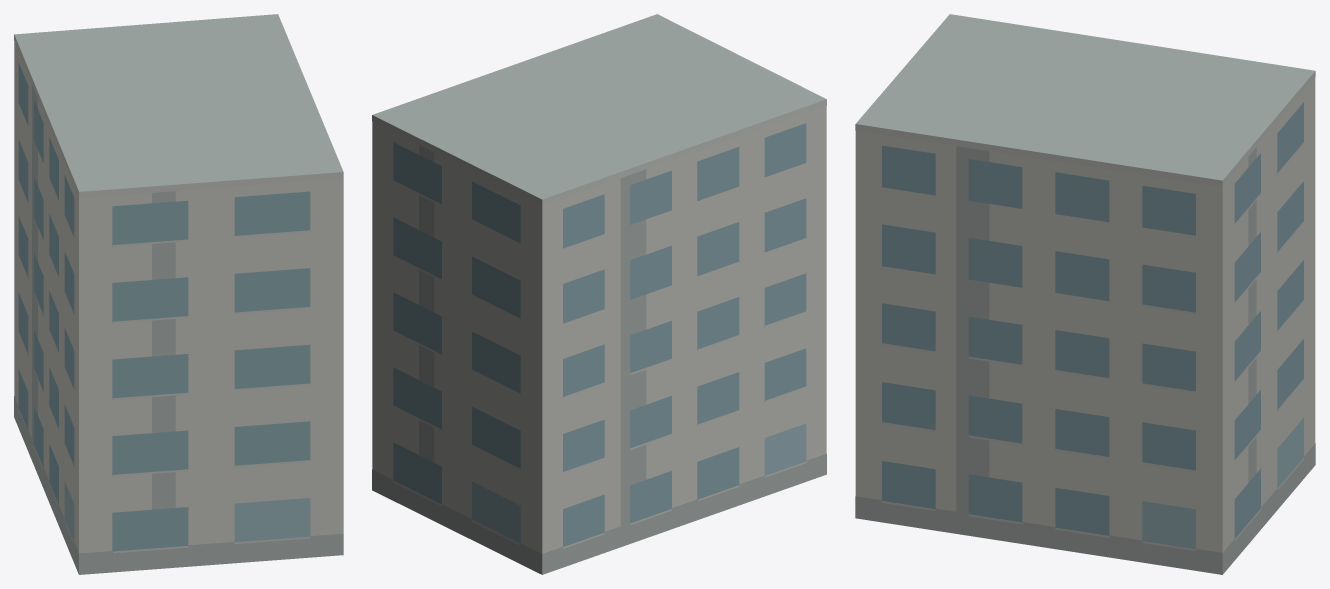
Rendered from survey-upis-32889274.glb.
The picture shows the model from 3 angles, left to right: view 1: azimuth 30°, elevation 25°; view 2: azimuth 150°, elevation 25°; view 3: azimuth 270°, elevation 25°; orthographic projection. The views are drawn at different scales.
Parts seen in each view (by area): view 1: survey-upis-32889274.tmp; view 2: survey-upis-32889274.tmp; view 3: survey-upis-32889274.tmp.
Part boxes in pixels (x1,y1,x2,y2): survey-upis-32889274.tmp: [14, 14, 343, 574]; survey-upis-32889274.tmp: [372, 14, 826, 574]; survey-upis-32889274.tmp: [855, 14, 1315, 574].
Bounding box in the file's own units: 13.05 × 14.4 × 15.23.
